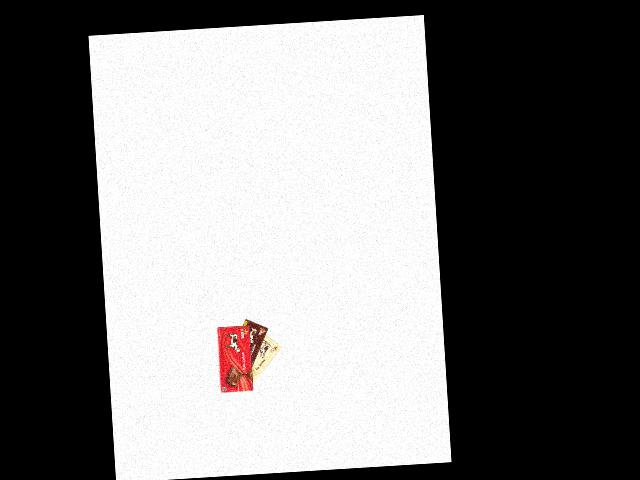chocolate: (243, 326, 284, 389)
